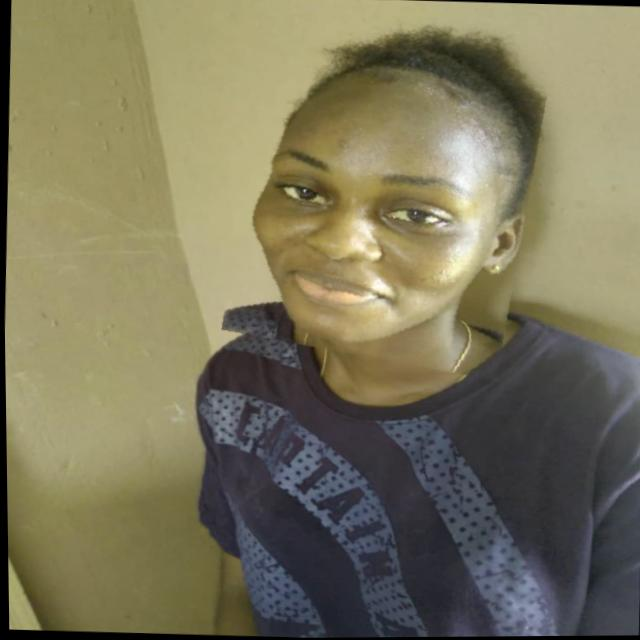happy: (226, 47, 540, 374)
